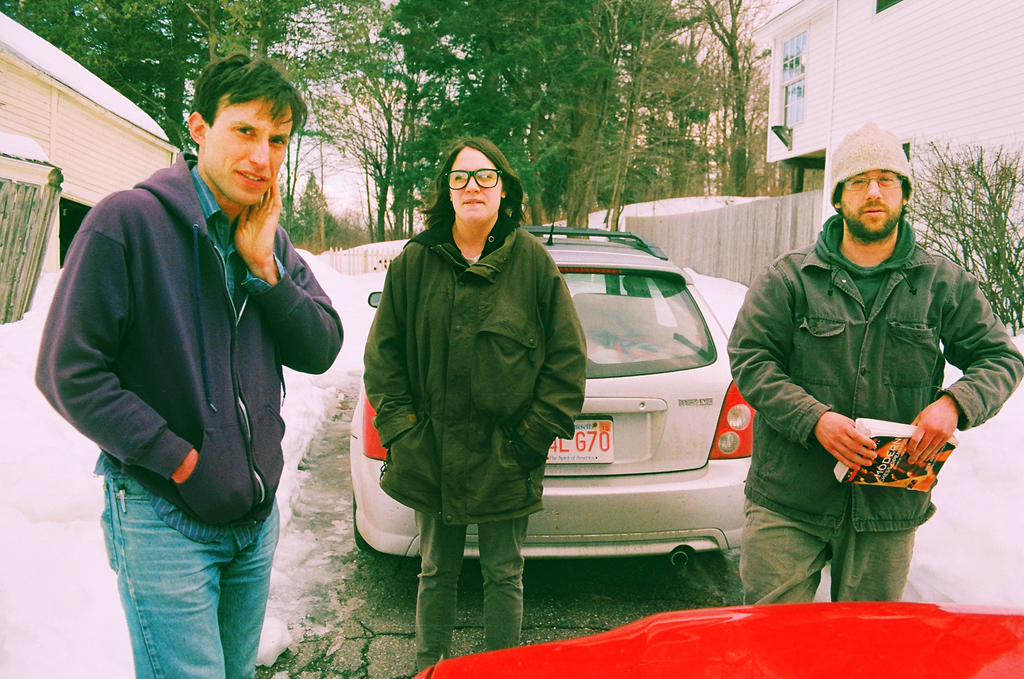Car: (354, 169, 786, 591)
